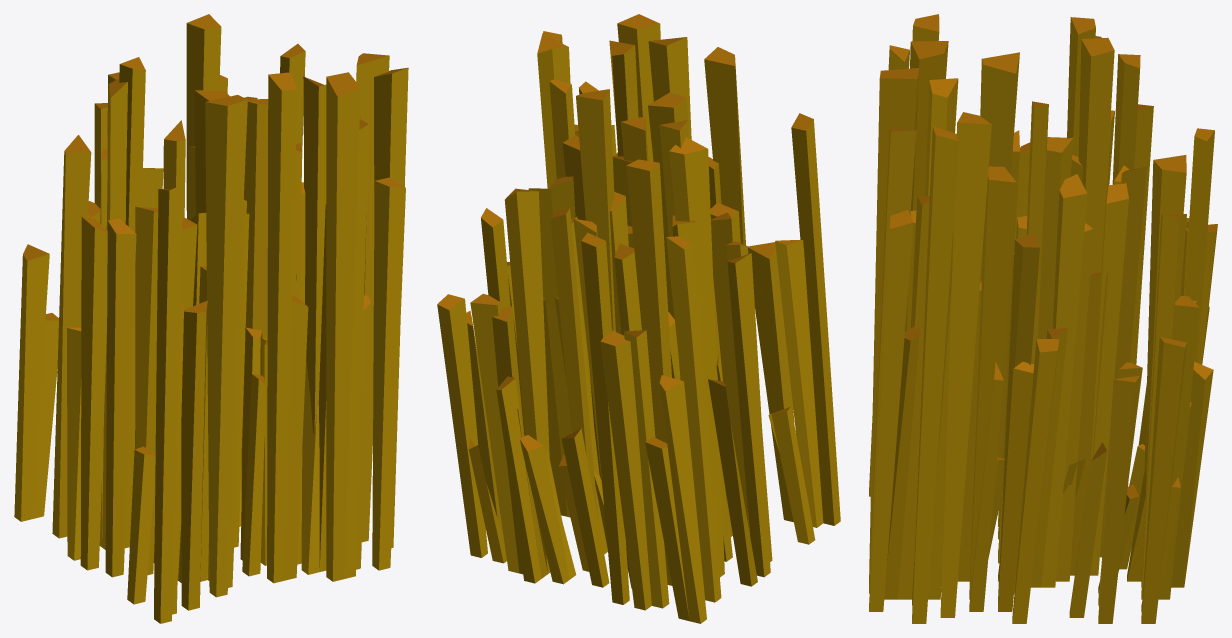
Rendered from wheat.fbx.
3 views of the same model, side by side, from view 1: azimuth 30°, elevation 25°; view 2: azimuth 150°, elevation 25°; view 3: azimuth 270°, elevation 25° (orthographic). The views are drawn at different scales.
Parts seen in each view (by area): view 1: Plane; view 2: Plane; view 3: Plane.
Boxes of the visible parts, x1,y1,x2,y2 form: Plane: (14,14,408,623); Plane: (437,14,840,623); Plane: (869,14,1217,623).
Bounding box in the file's own units: 221 × 369 × 221.
